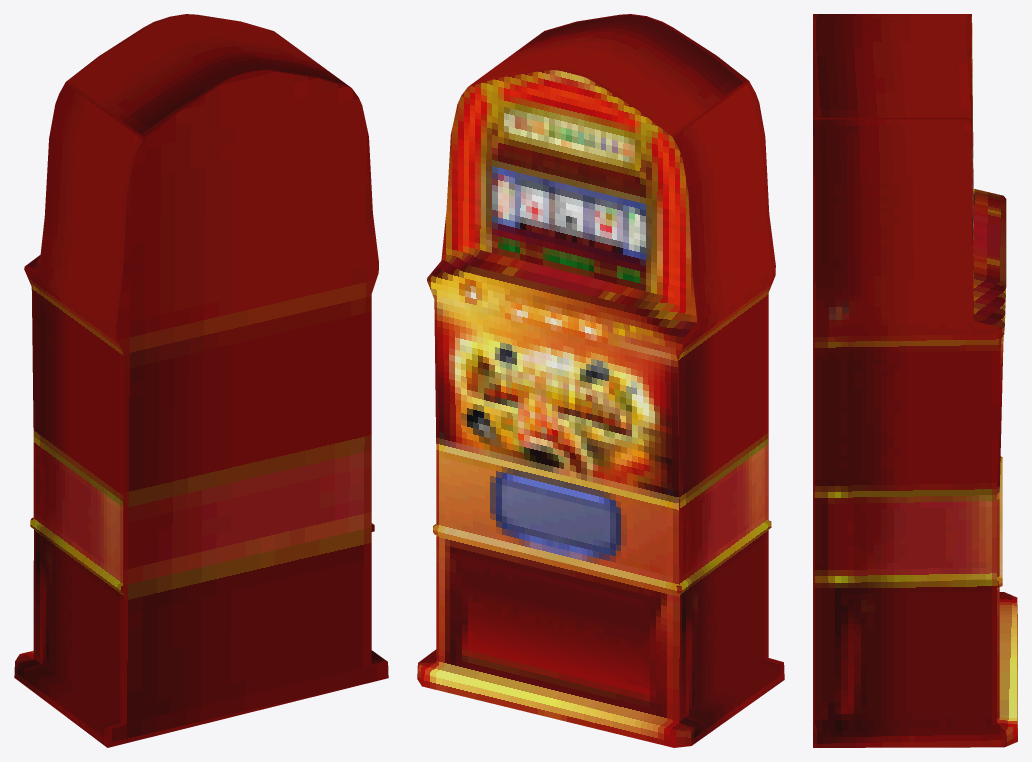
The model's file is ps2_save-icons_fruitmachinemania.glb.
The picture shows the model from 3 angles, left to right: view 1: azimuth 30°, elevation 25°; view 2: azimuth 150°, elevation 25°; view 3: azimuth 270°, elevation 25°; orthographic projection. The views are drawn at different scales.
Parts seen in each view (by area): view 1: icon.ico; view 2: icon.ico; view 3: icon.ico.
Part boxes in pixels (bbox=[...]): icon.ico: bbox=[14, 14, 388, 747]; icon.ico: bbox=[417, 14, 784, 747]; icon.ico: bbox=[813, 14, 1017, 747].
Bounding box in the file's own units: 2.3 × 5 × 1.42.
Materials: 1 (1 with a texture image).
